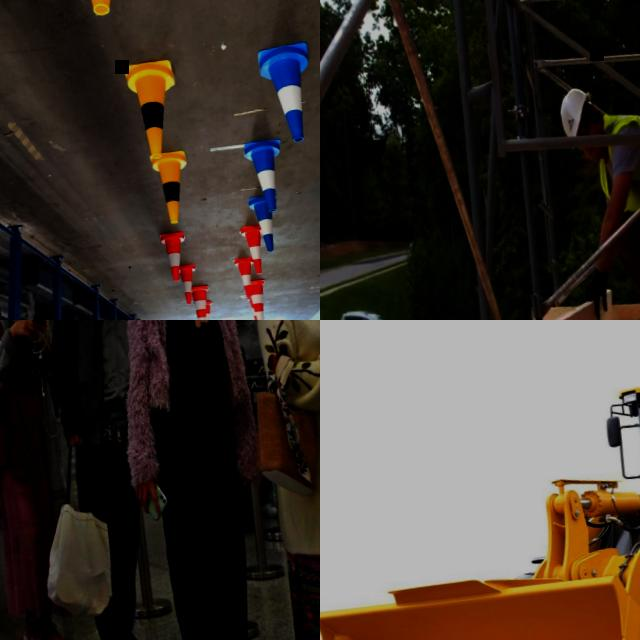Hardhat: (557, 86, 597, 150)
NO-Mask: (584, 125, 604, 159)
NO-Safety Vest: (138, 320, 234, 427), (71, 320, 153, 423), (259, 320, 320, 453), (0, 320, 44, 394), (224, 320, 271, 357)
Person: (94, 320, 284, 640), (27, 320, 192, 640), (0, 320, 90, 640), (234, 320, 320, 640), (555, 71, 640, 320), (220, 320, 272, 359)
Safety Cone: (122, 56, 187, 166), (252, 39, 320, 144), (148, 148, 195, 228), (244, 137, 291, 215), (247, 194, 279, 254), (159, 232, 191, 284), (238, 224, 267, 276), (233, 256, 257, 306), (247, 278, 272, 320), (177, 261, 200, 304), (191, 285, 213, 320), (197, 301, 218, 320)
Safety Vest: (591, 100, 640, 214)
vehicle: (320, 336, 640, 640), (334, 303, 411, 320)
